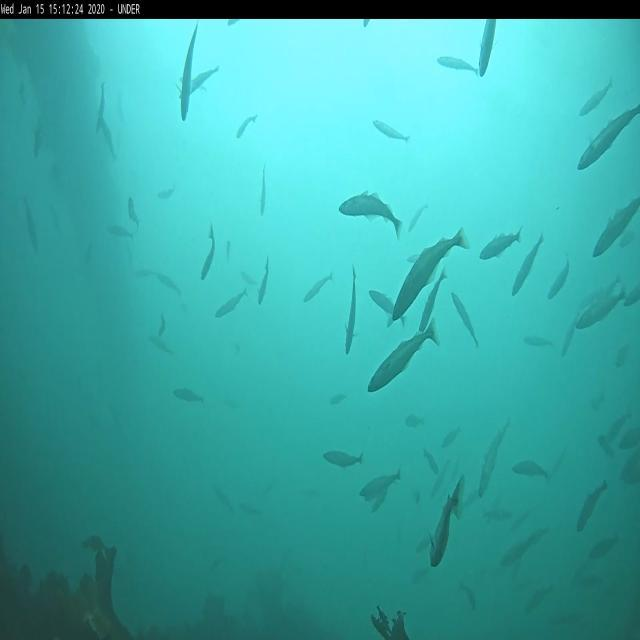fish: (390, 226, 470, 324), (368, 318, 441, 391), (577, 102, 638, 168), (338, 188, 403, 240), (430, 474, 464, 568), (593, 196, 638, 257), (477, 420, 510, 498), (576, 284, 628, 330), (178, 21, 198, 122), (511, 234, 544, 294), (419, 268, 447, 334), (574, 482, 606, 532), (478, 226, 520, 262), (451, 290, 478, 346), (368, 288, 406, 327), (344, 264, 360, 354), (580, 77, 613, 116), (360, 467, 400, 499), (183, 66, 220, 98), (478, 20, 499, 76), (547, 254, 571, 298), (373, 116, 410, 144), (216, 288, 250, 316), (100, 115, 120, 162), (304, 270, 333, 302), (22, 196, 38, 254), (436, 54, 478, 76), (562, 310, 580, 358), (512, 461, 549, 484), (322, 448, 365, 467), (201, 224, 215, 282), (408, 203, 431, 234), (522, 330, 554, 350), (156, 271, 183, 294), (371, 484, 391, 514), (172, 387, 206, 404), (236, 114, 257, 141), (258, 256, 269, 306), (150, 336, 174, 358), (106, 221, 132, 241), (96, 81, 106, 132), (459, 580, 477, 608), (422, 450, 440, 476), (622, 284, 638, 312), (482, 506, 512, 520), (404, 412, 426, 430), (260, 164, 267, 216), (126, 196, 138, 226), (158, 313, 166, 335)
